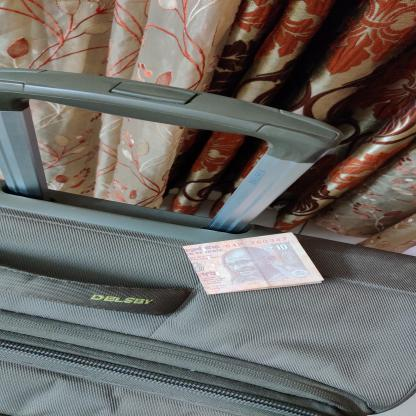Old10Front: (181, 231, 325, 296)
